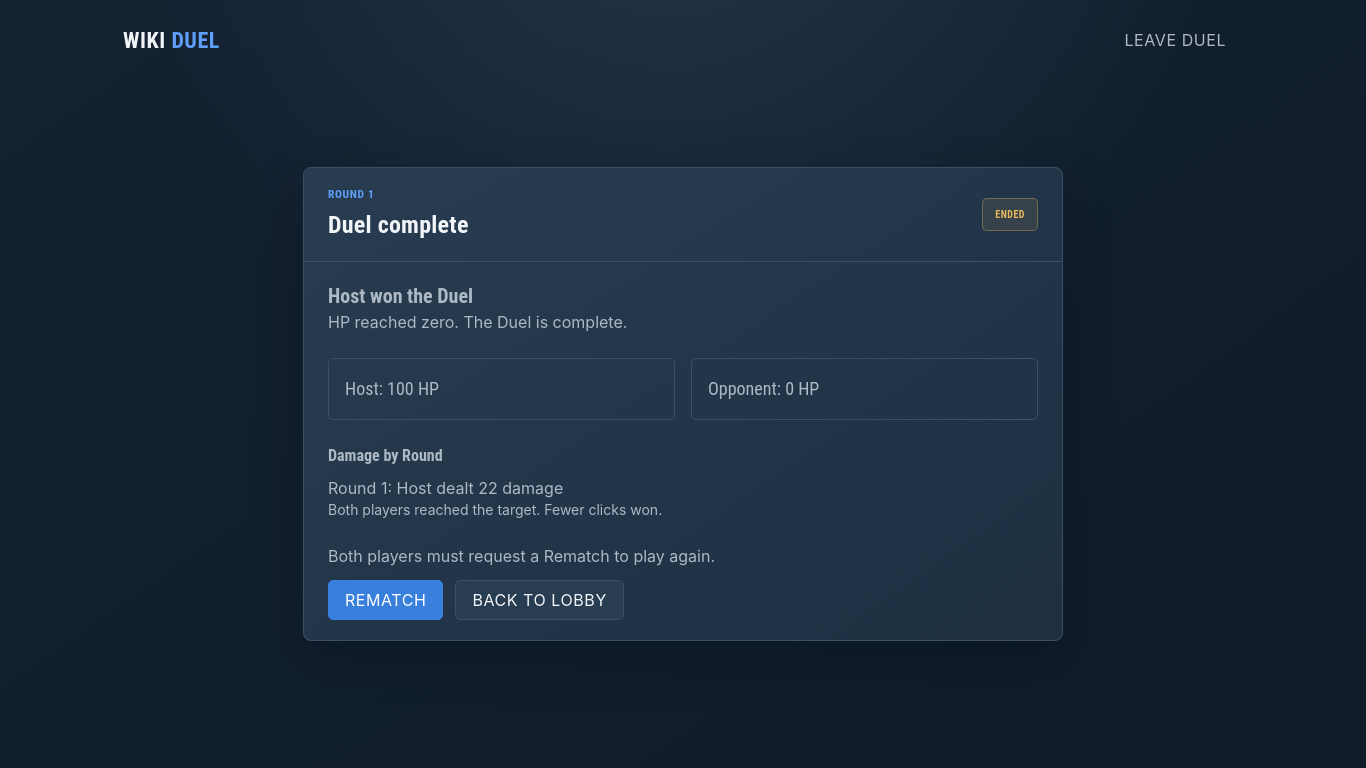
Test: Lobby client › accepts a Rematch that wins the race against an old departure command
The width and height of the screenshot is (1366, 768).
What coordinates should you click on to do the following:
click the button "Rematch"
I would click on:
 (386, 600)
Its box is [328, 580, 443, 620].
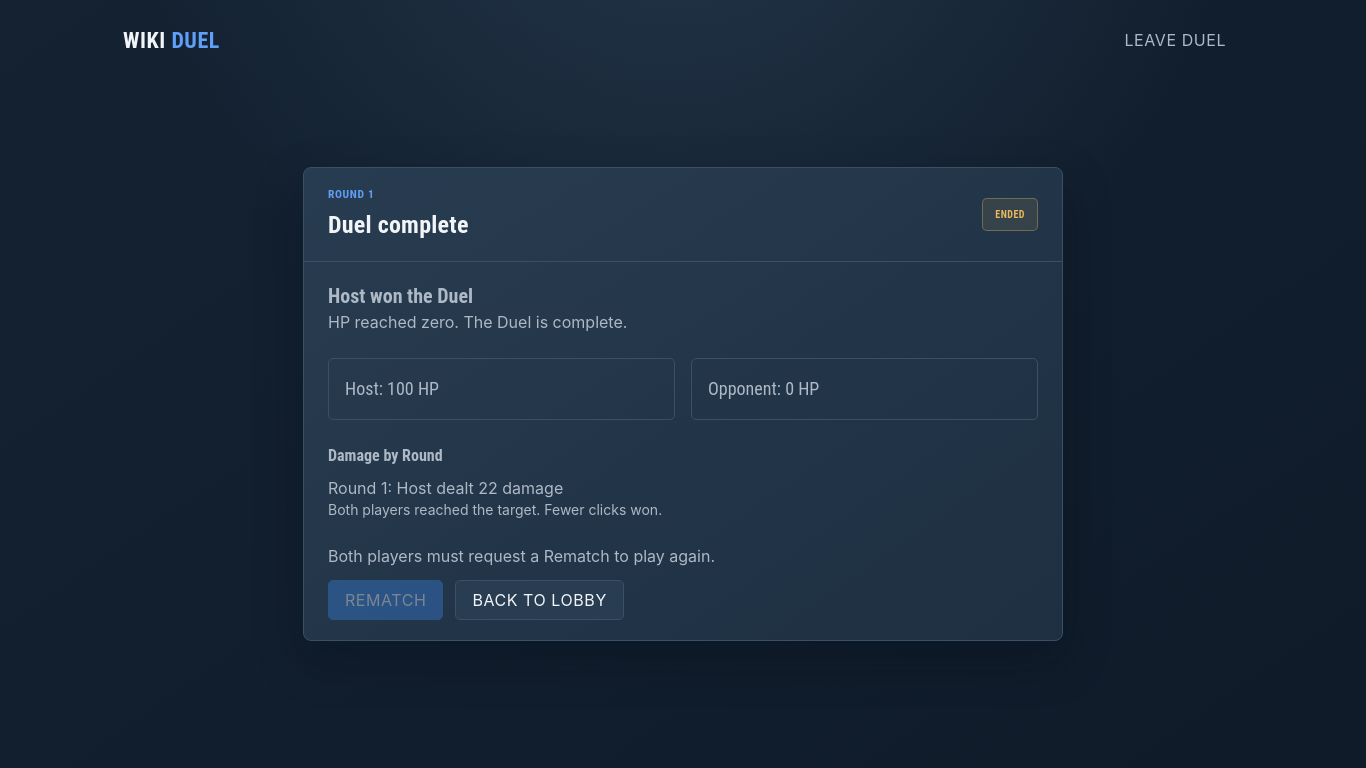
What coordinates should you click on to do the following:
click the button "Leave Duel"
I would click on:
 (1175, 40)
Its box is [1108, 20, 1243, 60].
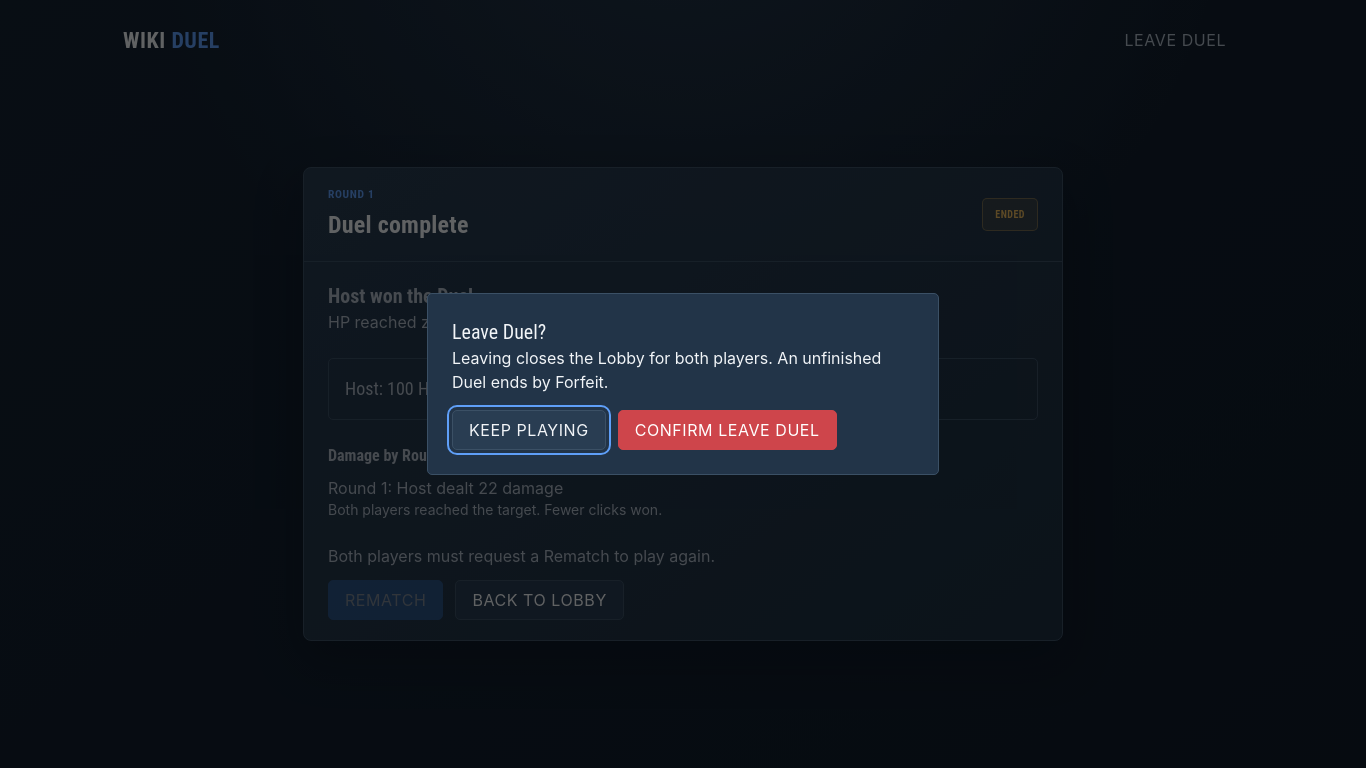
What coordinates should you click on to do the following:
click the button "Confirm Leave Duel"
I would click on:
 (727, 430)
Its box is [618, 410, 837, 450].
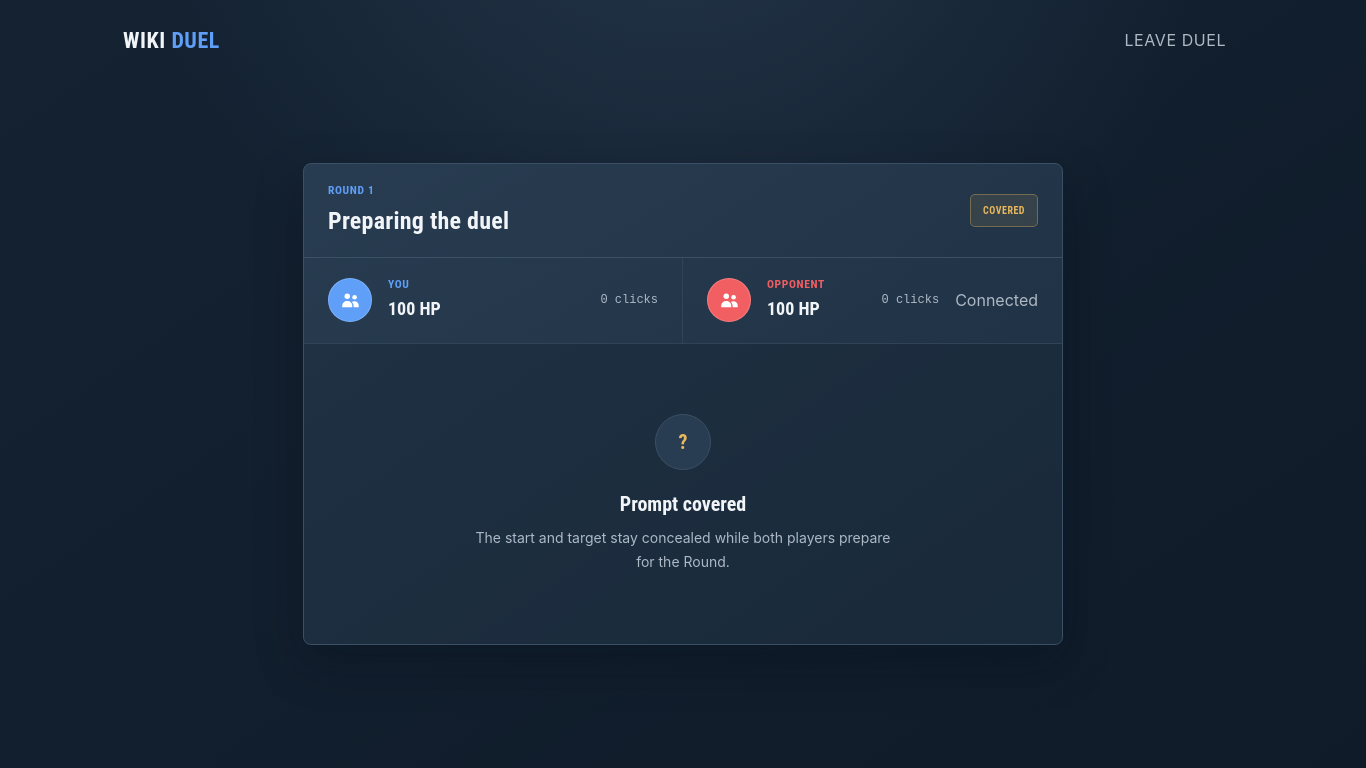
Check: the dialog is gone
Check: the heading "Preparing the duel" is shown, box [328, 205, 509, 237]
